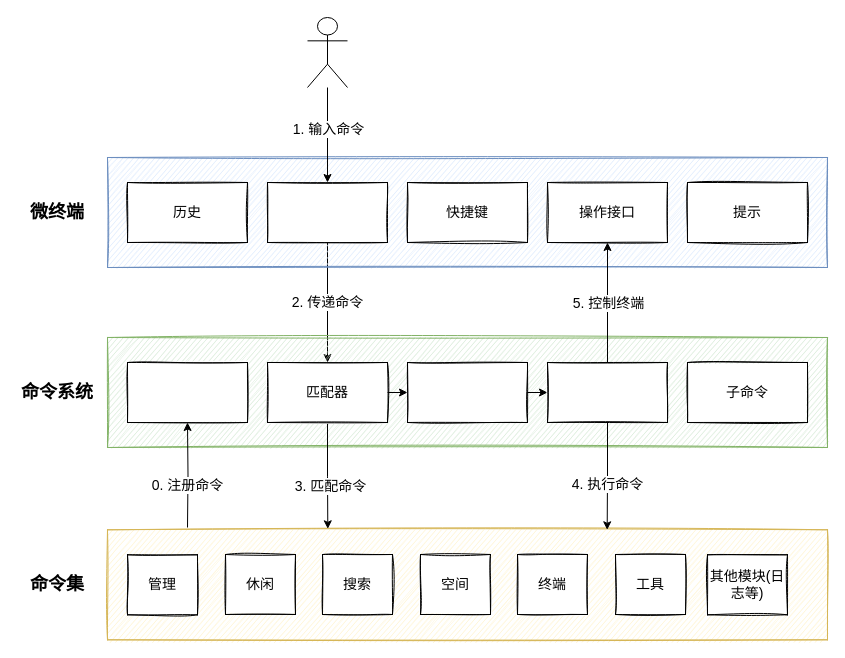
This 845x658 diagram has some shape labels left out. The shapes that lost their labels are listed below. From the top down, each one's centre as x and y in pixels, then its label:
[327,212]: 输入 / 输出
[187,392]: 注册器
[467,392]: 解析器
[607,392]: 执行器
